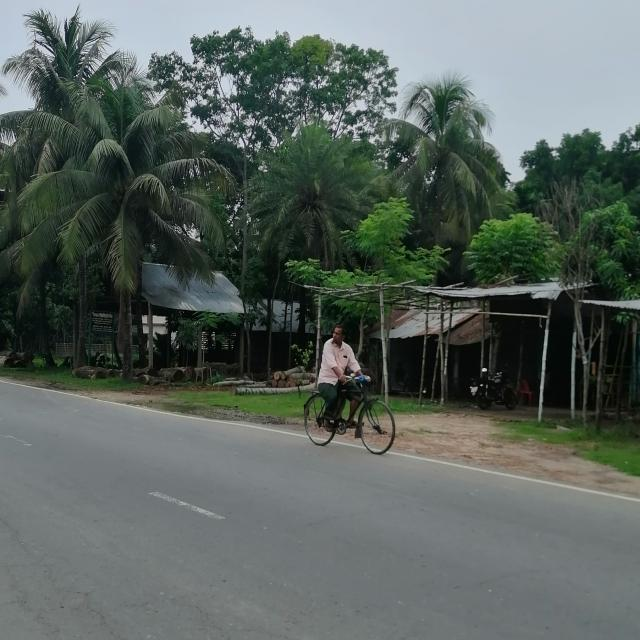Bicycle: (296, 368, 400, 462)
